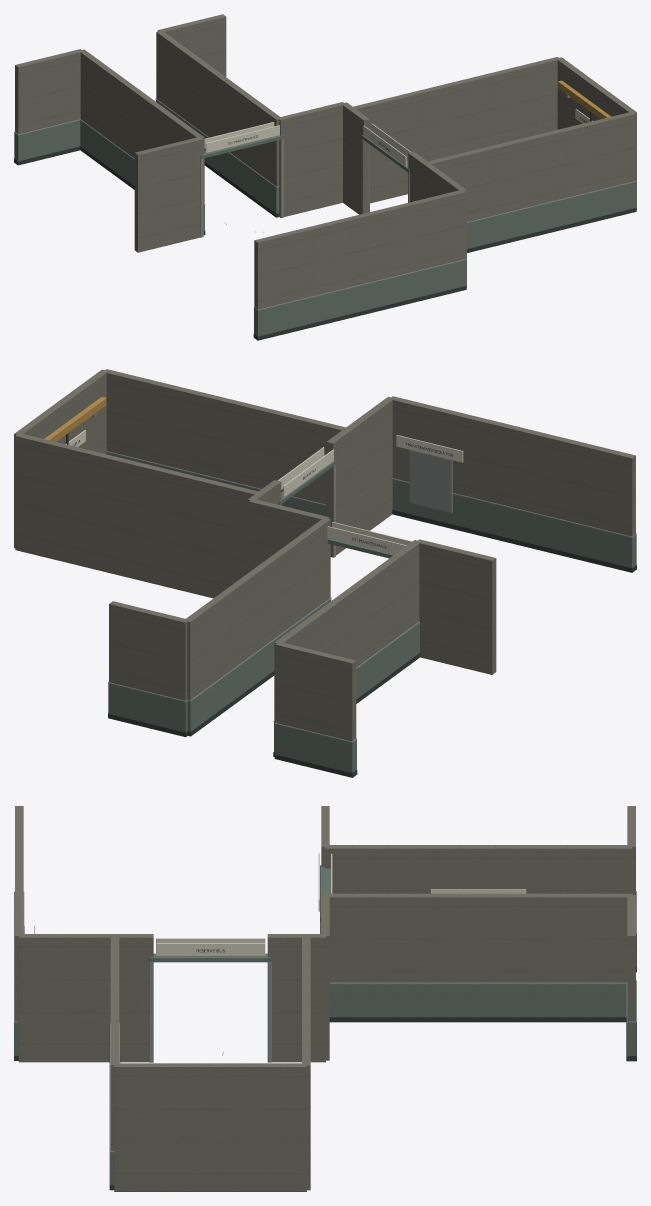
File: power_maintenance.glb
The picture shows the model from 3 angles, top to bottom: view 1: azimuth 30°, elevation 25°; view 2: azimuth 150°, elevation 25°; view 3: azimuth 270°, elevation 25°; orthographic projection. The views are drawn at different scales.
Parts seen in each view (by area): view 1: power_maintenance / power_plaster, power_maintenance / power_sage_enamel, power_maintenance / power_blackened_steel, power_maintenance / power_galvanized, power_maintenance / power_instrument_ivory, power_maintenance / power_isolation_ochre; view 2: power_maintenance / power_plaster, power_maintenance / power_sage_enamel, power_maintenance / power_galvanized, power_maintenance / power_instrument_ivory, power_maintenance / power_blackened_steel, power_maintenance / power_isolation_ochre; view 3: power_maintenance / power_plaster, power_maintenance / power_sage_enamel, power_maintenance / power_instrument_ivory, power_maintenance / power_galvanized, power_maintenance / power_blackened_steel.
Part boxes in pixels (x1,y1,x2,y2): power_maintenance / power_plaster: (15, 14, 636, 309); power_maintenance / power_sage_enamel: (14, 100, 636, 336); power_maintenance / power_blackened_steel: (14, 111, 636, 340); power_maintenance / power_galvanized: (14, 94, 636, 310); power_maintenance / power_instrument_ivory: (204, 109, 592, 166); power_maintenance / power_isolation_ochre: (558, 80, 610, 118); power_maintenance / power_plaster: (14, 369, 635, 741); power_maintenance / power_sage_enamel: (106, 452, 636, 772); power_maintenance / power_galvanized: (92, 413, 636, 742); power_maintenance / power_instrument_ivory: (65, 430, 463, 554); power_maintenance / power_blackened_steel: (66, 433, 636, 777); power_maintenance / power_isolation_ochre: (44, 397, 106, 441); power_maintenance / power_plaster: (15, 806, 635, 1191); power_maintenance / power_sage_enamel: (14, 865, 636, 1184); power_maintenance / power_instrument_ivory: (34, 853, 526, 956); power_maintenance / power_galvanized: (14, 891, 636, 1152); power_maintenance / power_blackened_steel: (14, 926, 636, 1190).
Bounding box in the file's own units: 16.15 × 3.6 × 16.28.
7 materials, 3 textured.
